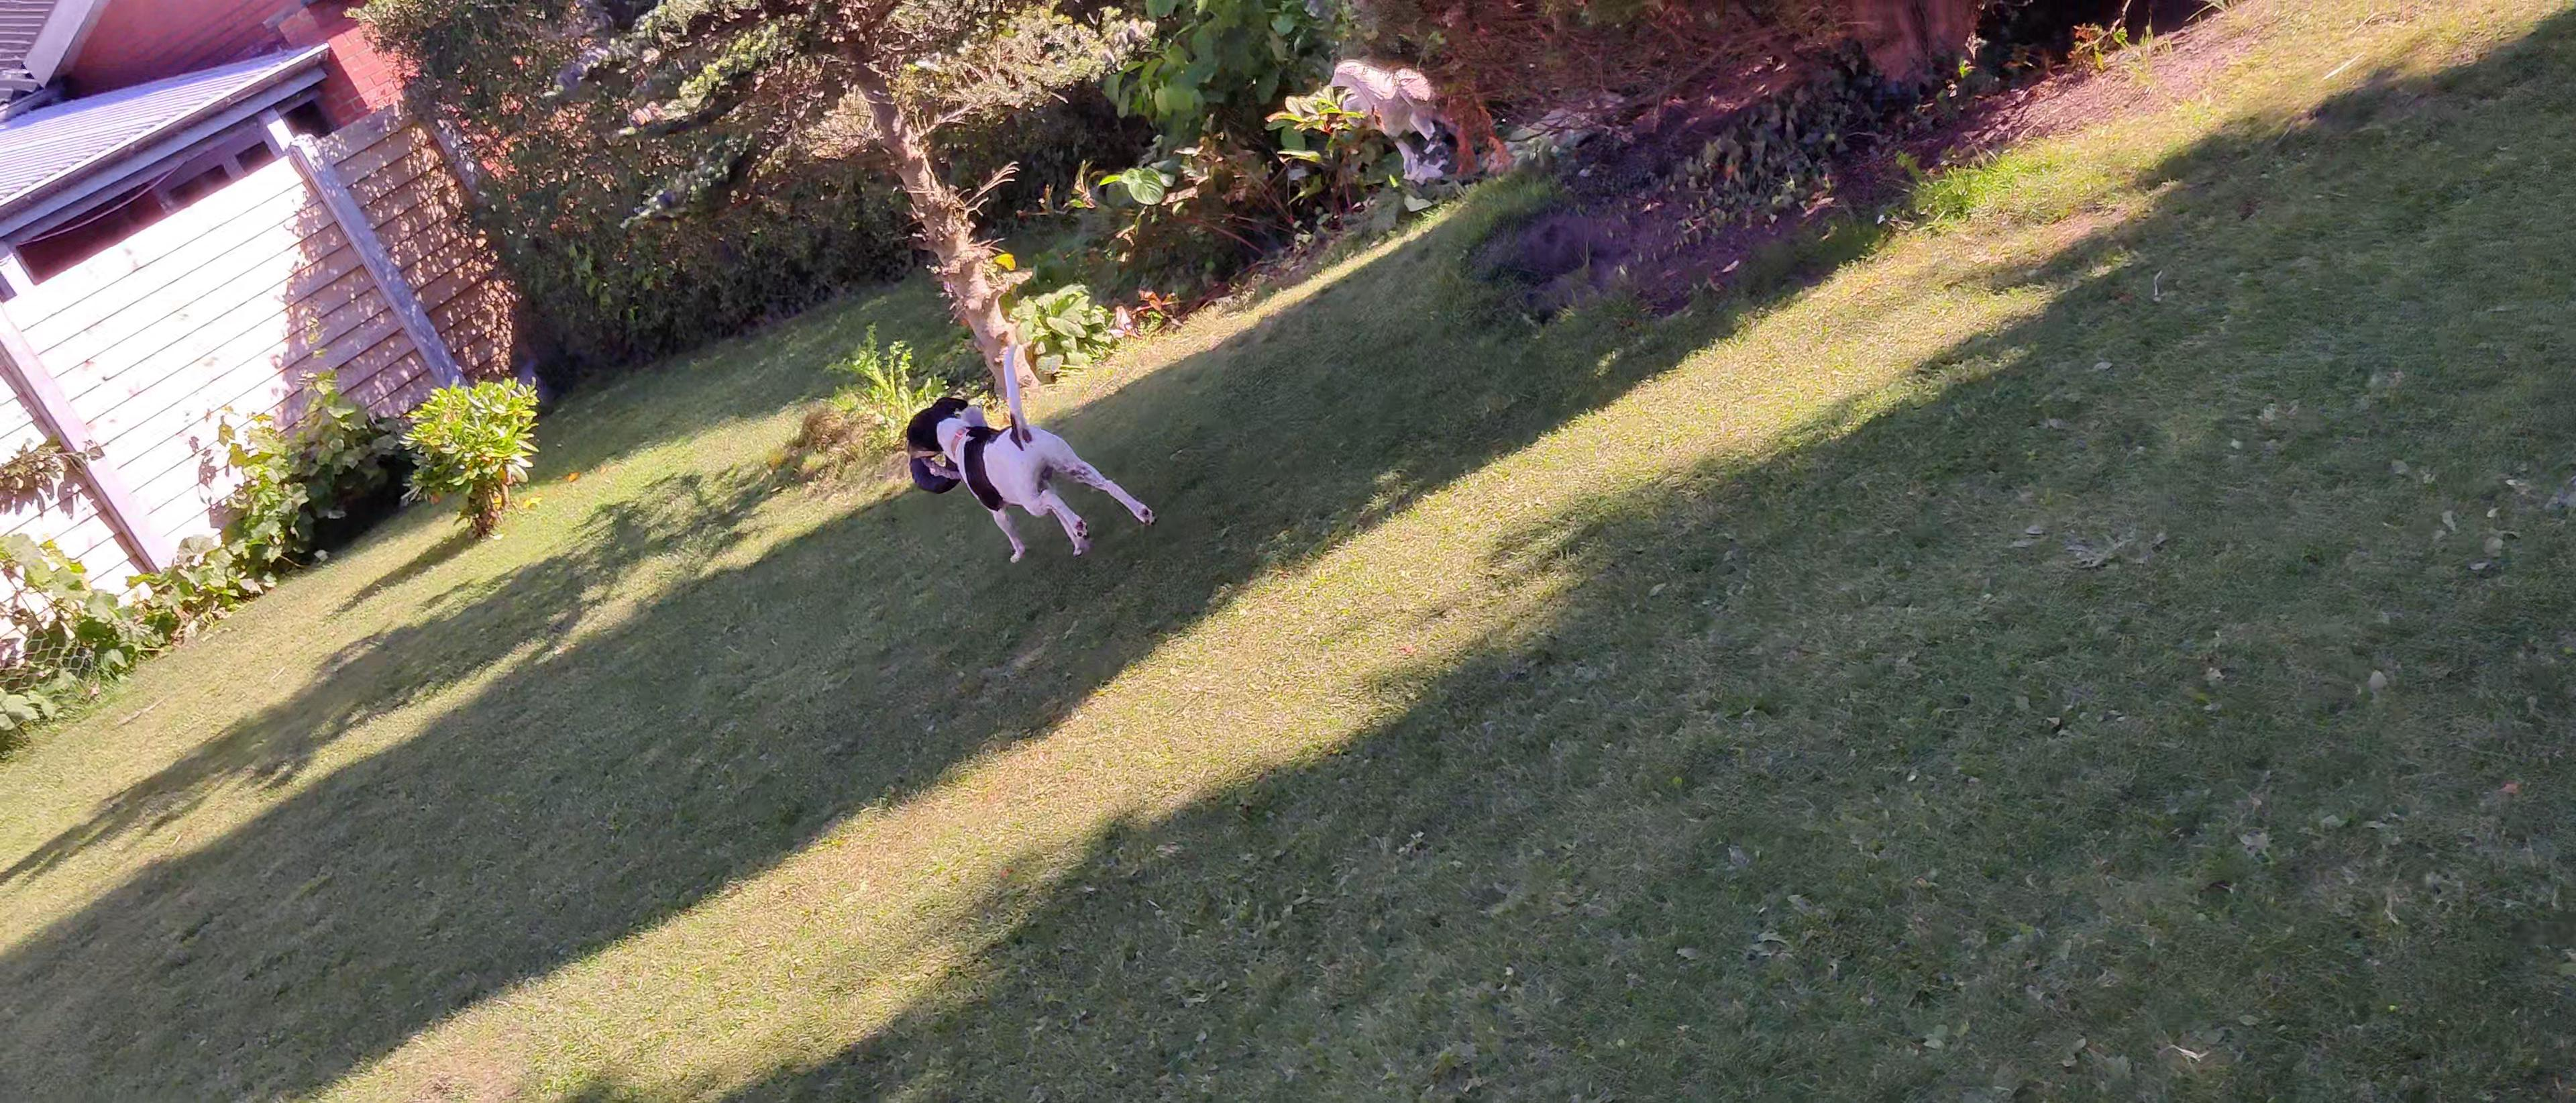Dog: (895, 340, 1161, 562)
